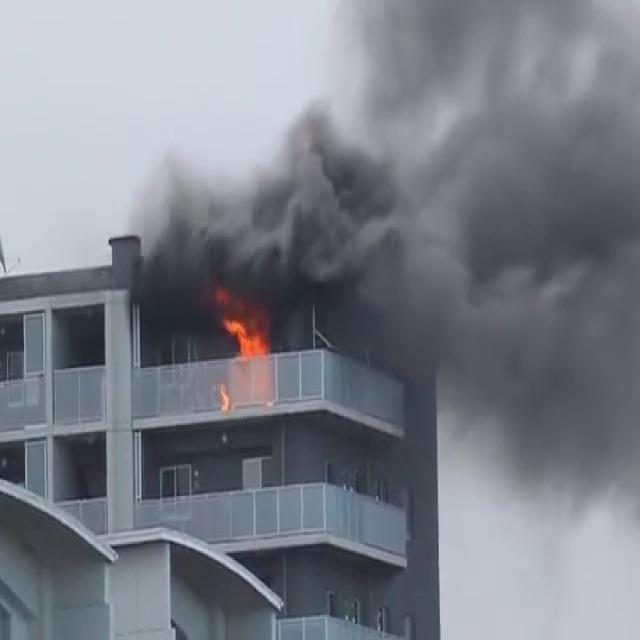Fire: (215, 301, 272, 362)
Smoke: (124, 0, 640, 542), (115, 88, 406, 364)
